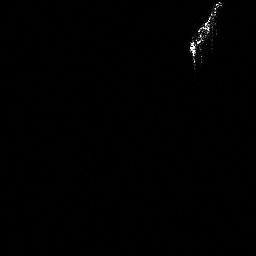ship: (186, 1, 225, 71)
